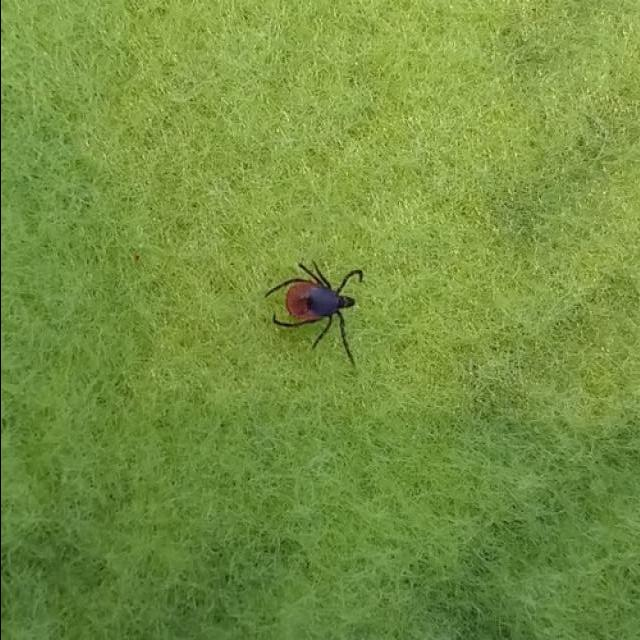Ixodes Ricinus-F: (261, 261, 362, 357)
